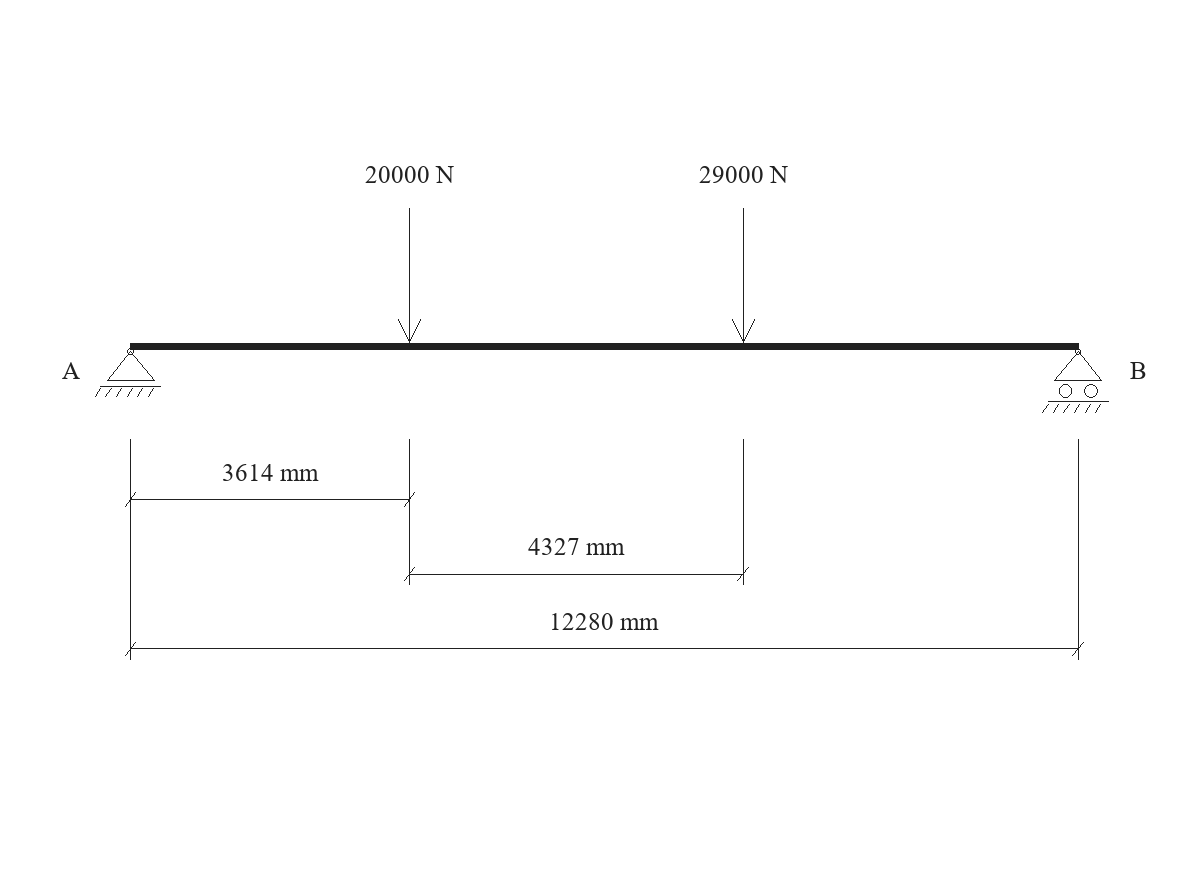pin_support: (95, 348, 161, 397)
point_load: (398, 208, 421, 343), (732, 208, 755, 343)
roller_support: (1042, 348, 1109, 413)
